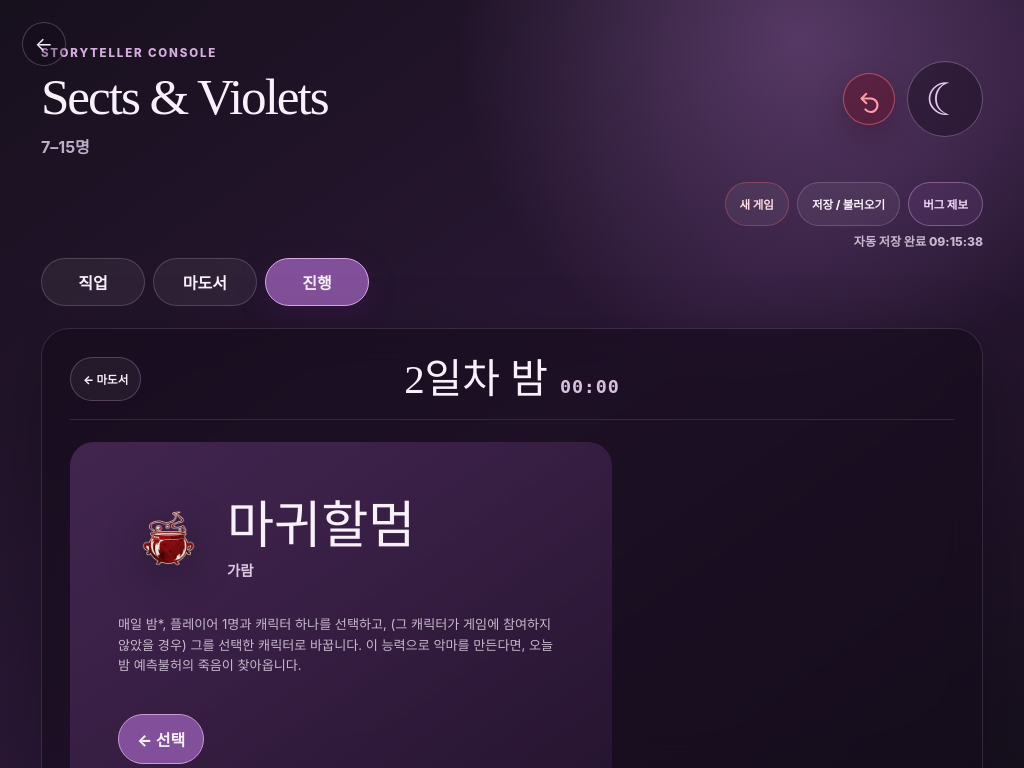
Scenario: sends the combined choice and uses the existing centered identity reveal flow
The image size is (1024, 768).
Click the button "← 선택" at coordinates (161, 739), box [118, 714, 204, 764]
(page scrolled)
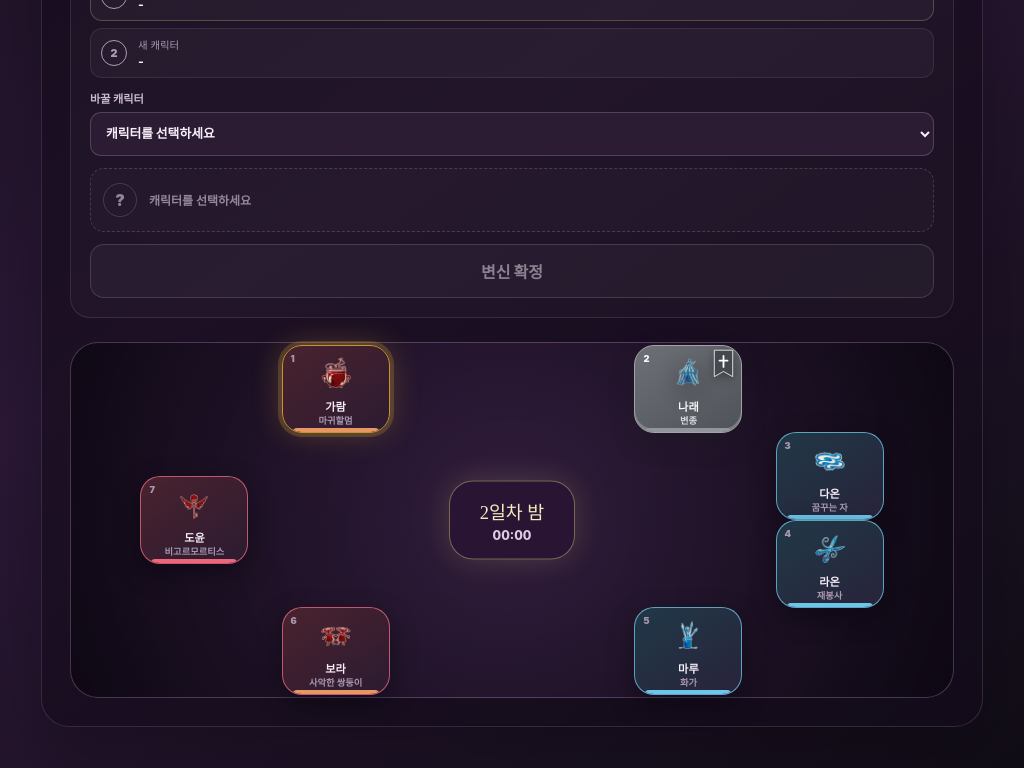
Expected: the button "변신 확정" is disabled, [90, 244, 934, 298]
Expected: the button "2 나래 변종" is enabled
Click the button "2 나래 변종" at coordinates (688, 389), box [634, 345, 742, 433]
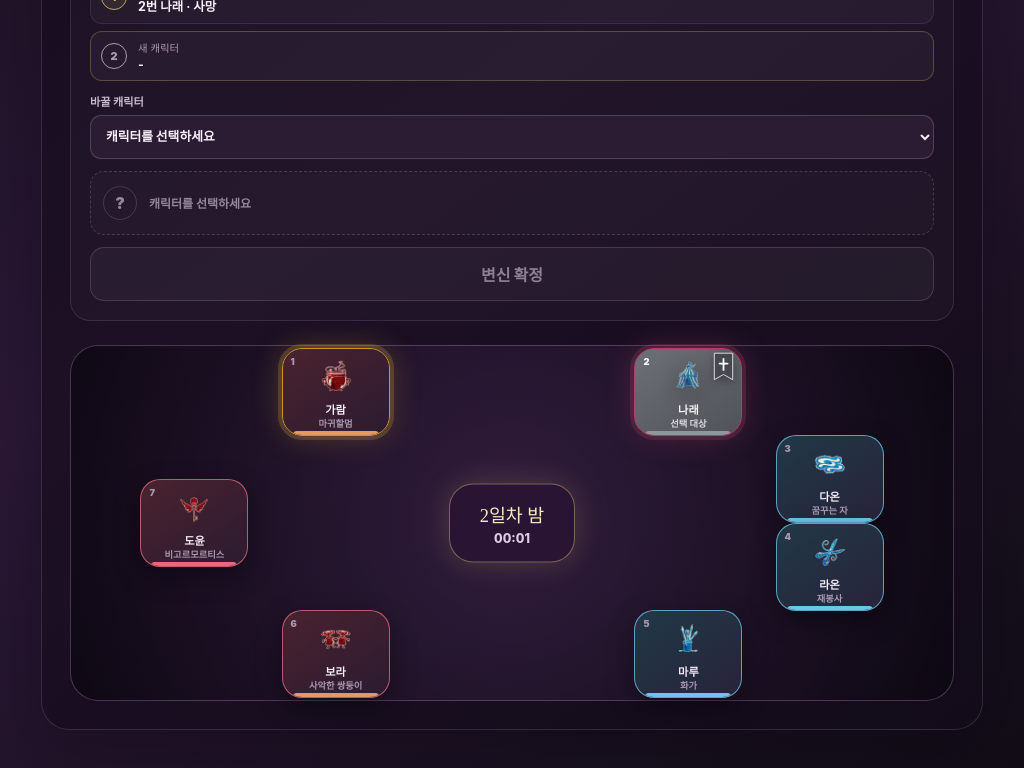
Select "노 다시" in the dropdown labelled "바꿀 캐릭터" at coordinates (512, 137), box [90, 115, 934, 159]
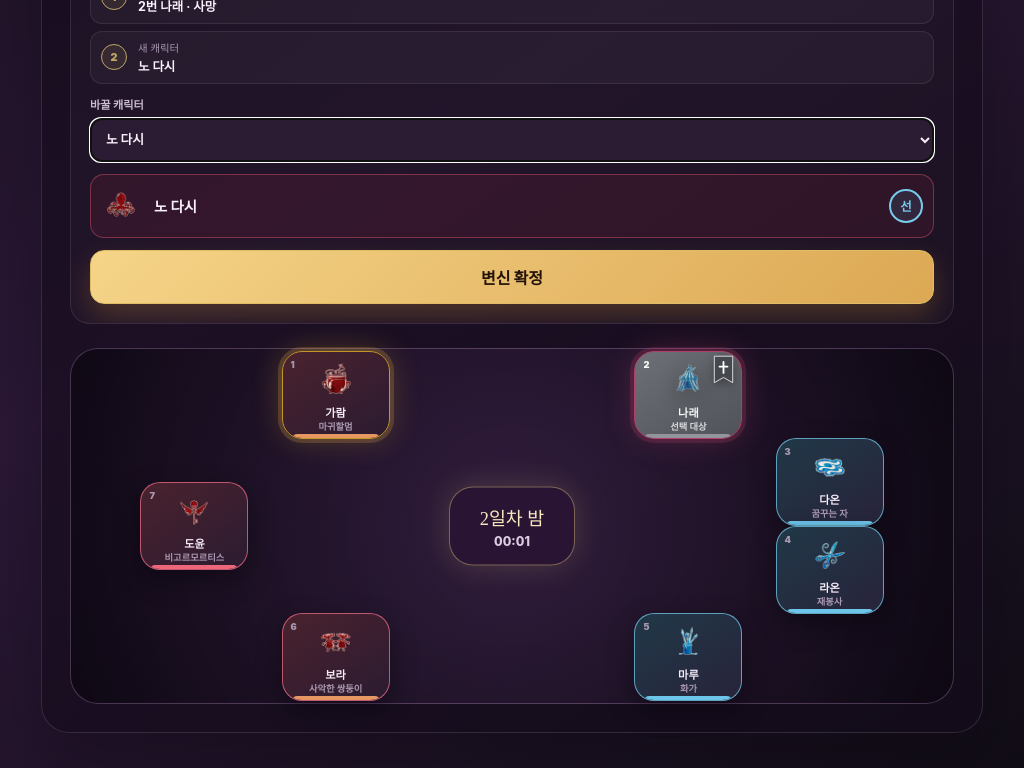
Click the button "변신 확정" at coordinates (512, 277), box [90, 250, 934, 304]
(page scrolled)
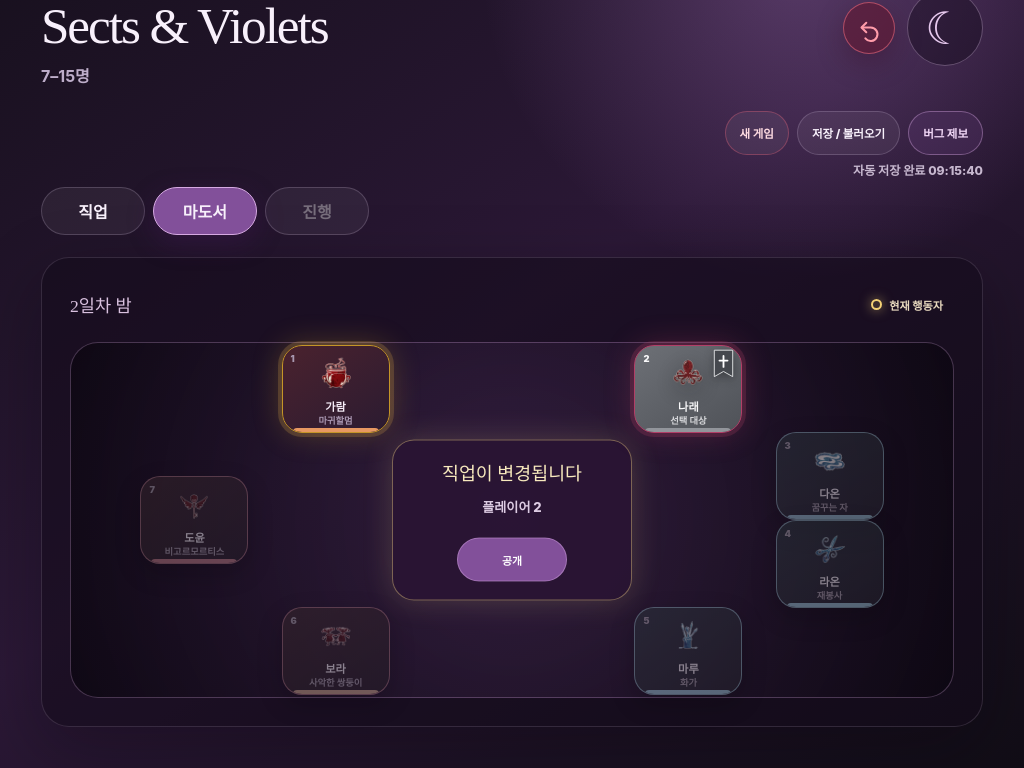
Expected: the element named "직업 변경 안내 1/1" is shown, [392, 440, 632, 600]
Click the button "공개" at coordinates (512, 560), box [457, 538, 567, 582]
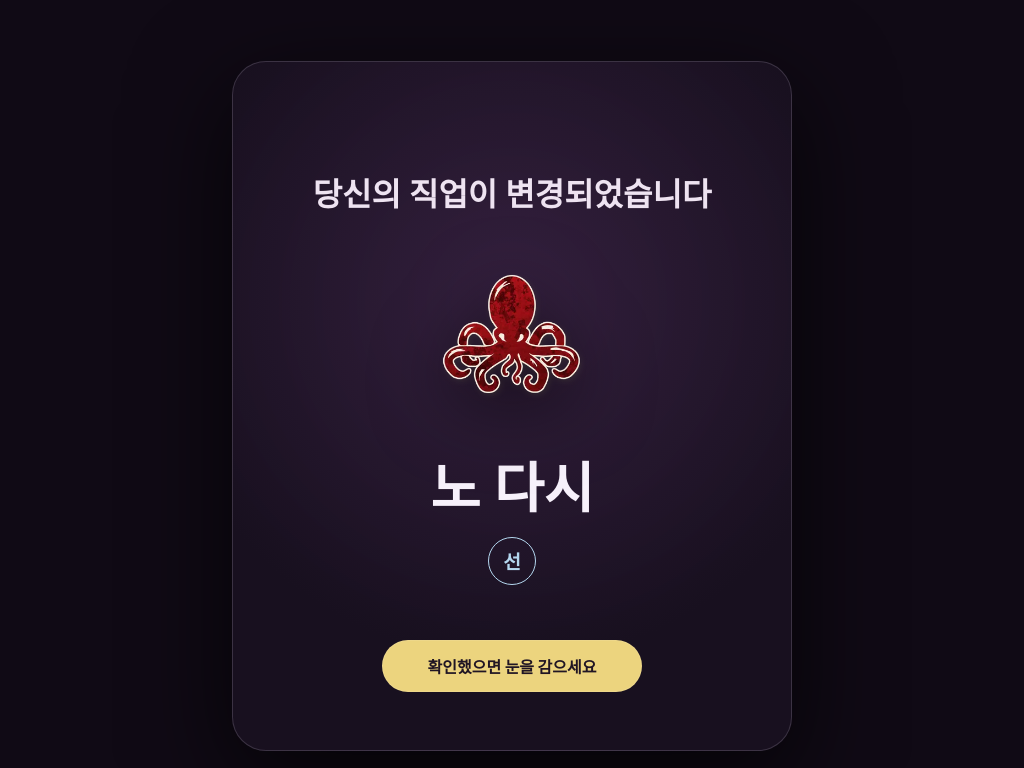
Expected: the heading "노 다시" is shown, [430, 462, 594, 519]
Expected: the text named "현재 진영 · 선" is shown, [488, 537, 536, 585]
